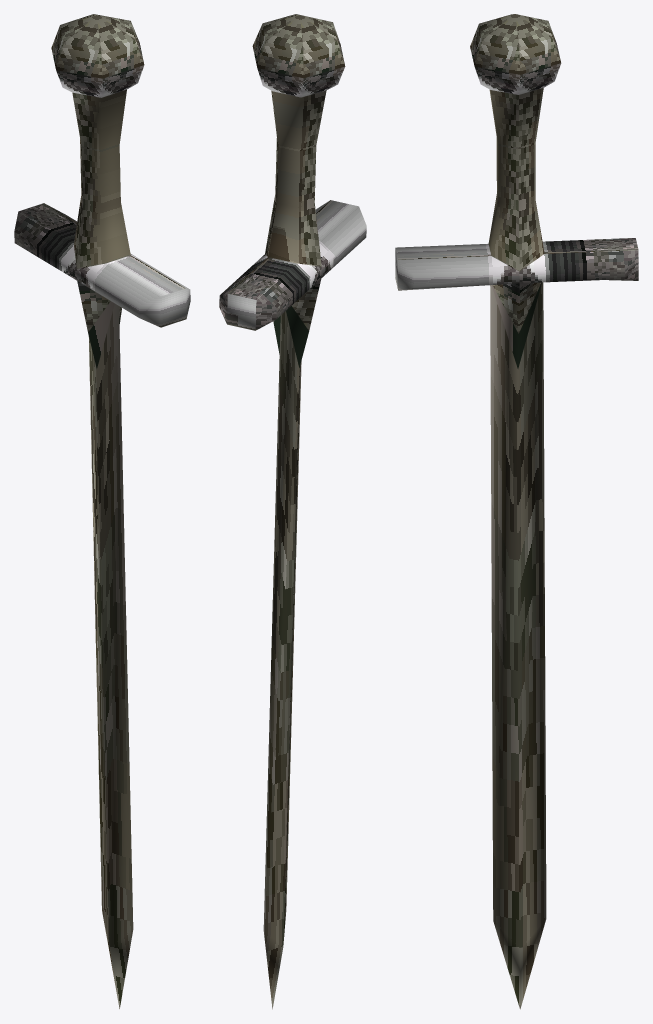
The model's file is CINE01_CORWINCONVERSATION1_SHOT8_SWORDCORWIN.obj.
The picture shows the model from 3 angles, left to right: view 1: azimuth 30°, elevation 25°; view 2: azimuth 150°, elevation 25°; view 3: azimuth 270°, elevation 25°; orthographic projection.
Visible parts, largest first — view 1: Mesh01; view 2: Mesh01; view 3: Mesh01.
Boxes of the visible parts, x1,y1,x2,y2 form: Mesh01: (14,14,190,1008); Mesh01: (219,14,366,1009); Mesh01: (395,14,638,1009).
Bounding box in the file's own units: 13.39 × 145 × 32.55.
